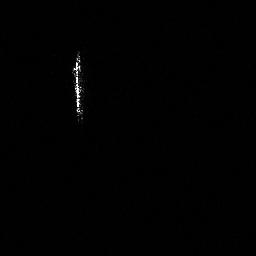ship: (70, 50, 85, 119)
